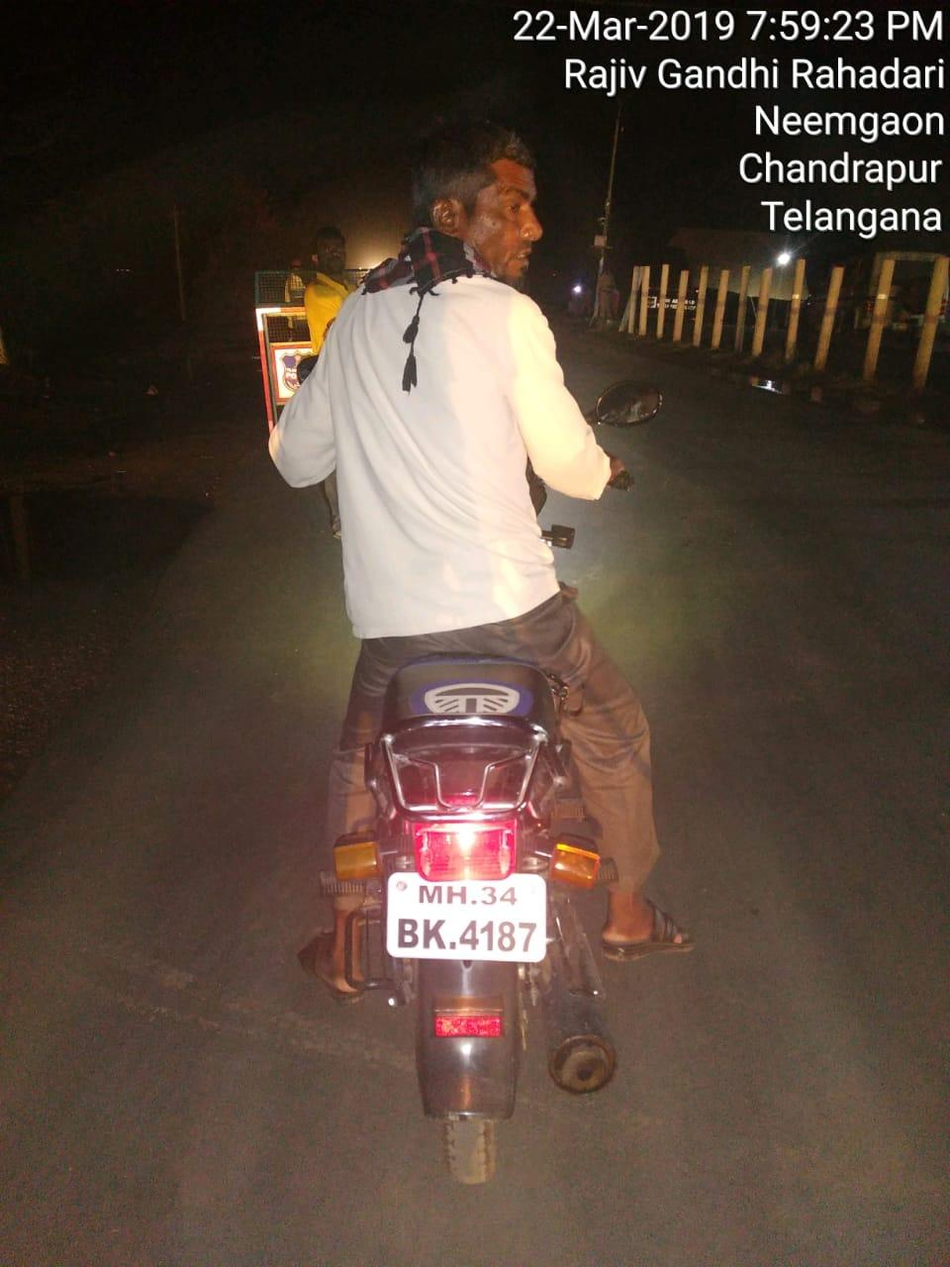plate: (360, 866, 584, 980)
